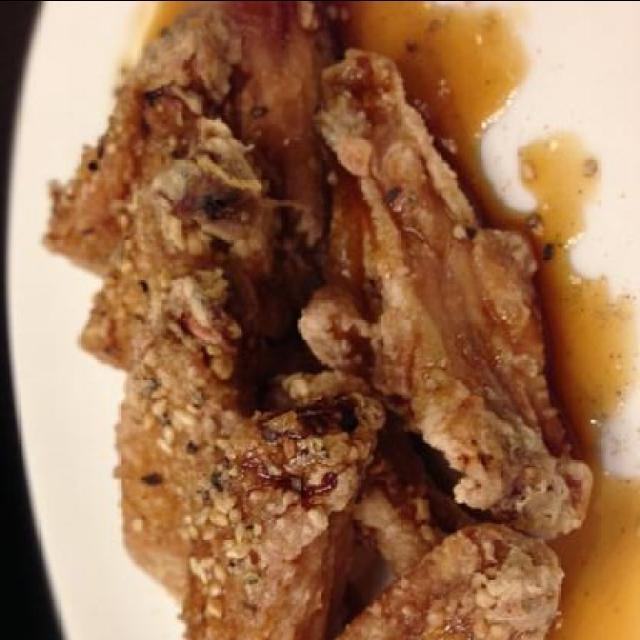Deep fried chicken wing: (70, 8, 594, 624)
